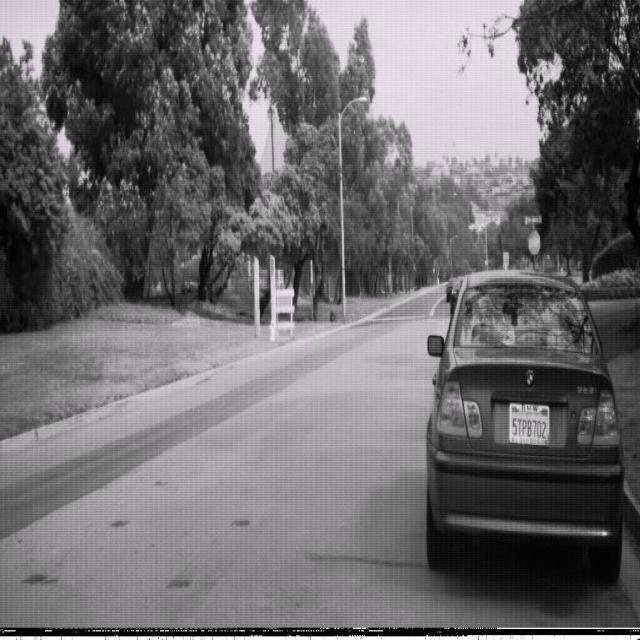stop: (526, 228, 541, 256)
